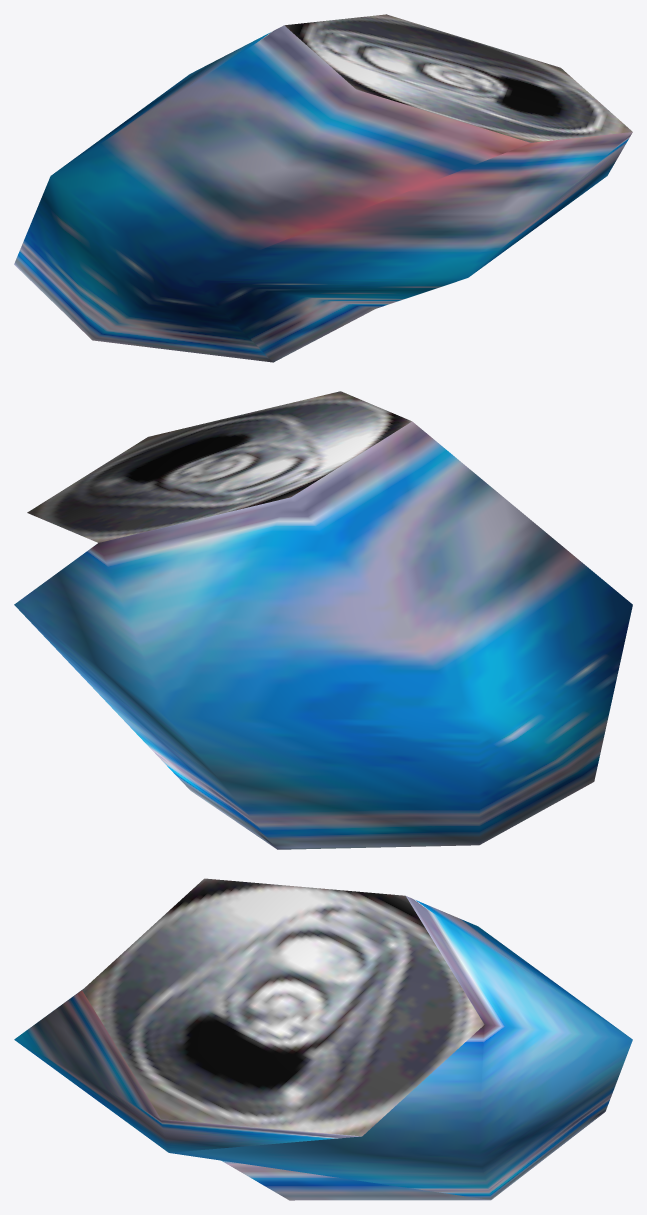
The model's file is can_5_crushed.glb.
The picture shows the model from 3 angles, top to bottom: view 1: azimuth 30°, elevation 25°; view 2: azimuth 150°, elevation 25°; view 3: azimuth 270°, elevation 25°; orthographic projection. The views are drawn at different scales.
Parts seen in each view (by area): view 1: Can_5_Crushed; view 2: Can_5_Crushed; view 3: Can_5_Crushed.
Boxes of the visible parts, x1,y1,x2,y2 form: Can_5_Crushed: [14, 14, 632, 362]; Can_5_Crushed: [14, 391, 632, 849]; Can_5_Crushed: [14, 878, 632, 1200].
Bounding box in the file's own units: 0.35 × 0.1786 × 0.3448.
1 material, 1 textured.
